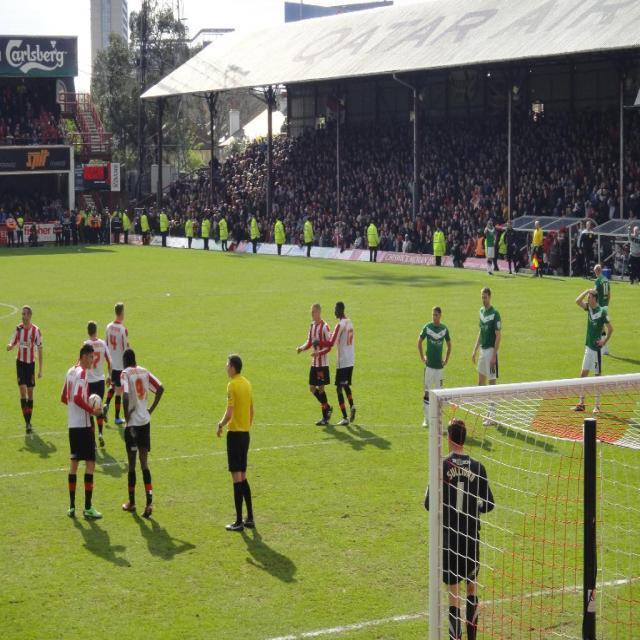football: (83, 398, 113, 413)
